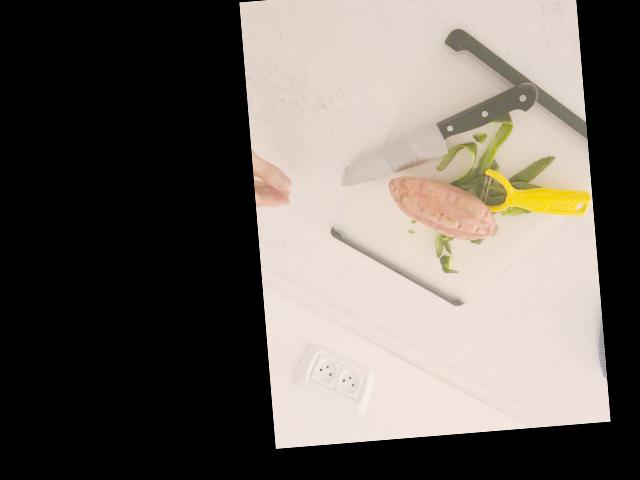sweet_potato: (389, 167, 502, 245)
